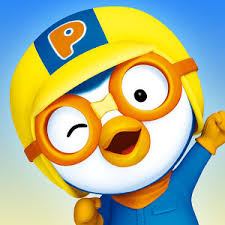Pororo: (8, 6, 225, 225)
